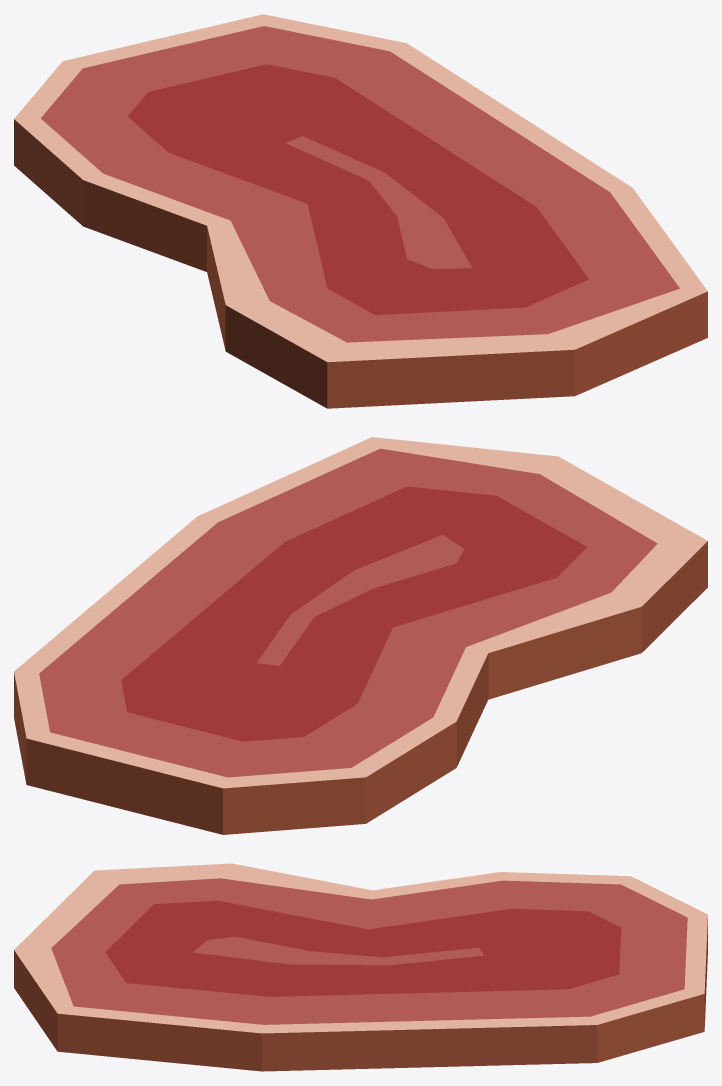
The model's file is SM_Props_Interior_Shop_Butcher_02.fbx.
3 views of the same model, one above another, from view 1: azimuth 30°, elevation 25°; view 2: azimuth 150°, elevation 25°; view 3: azimuth 270°, elevation 25° (orthographic). The views are drawn at different scales.
Visible parts, largest first — view 1: SM_Props_Interior_Shop_Butcher_02; view 2: SM_Props_Interior_Shop_Butcher_02; view 3: SM_Props_Interior_Shop_Butcher_02.
Part boxes in pixels (<box>): SM_Props_Interior_Shop_Butcher_02: <box>14,14,707,408</box>; SM_Props_Interior_Shop_Butcher_02: <box>14,437,707,834</box>; SM_Props_Interior_Shop_Butcher_02: <box>14,863,707,1071</box>.
Size of the model in its own units: 38.33 by 4 by 66.13.
